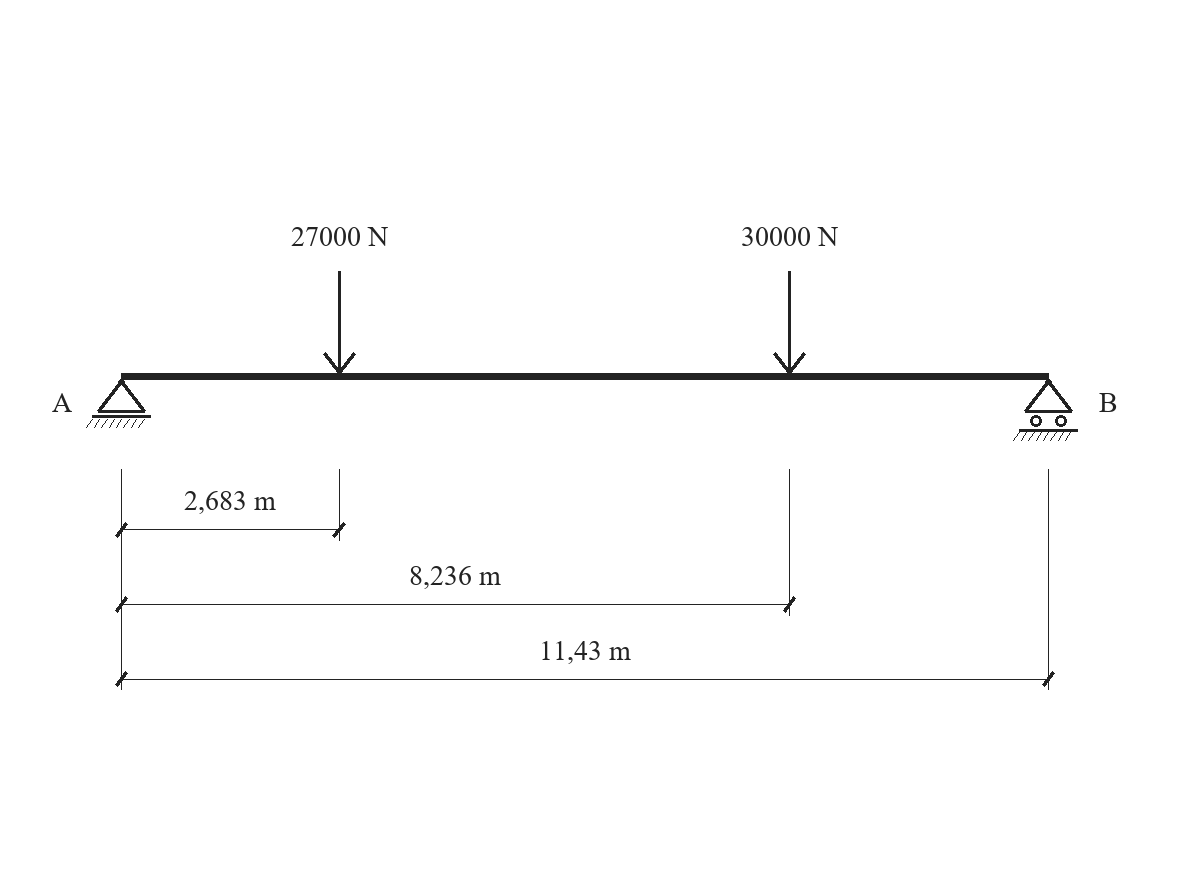pin_support: (86, 379, 151, 428)
point_load: (323, 271, 356, 374), (773, 271, 806, 374)
roller_support: (1013, 379, 1078, 441)
